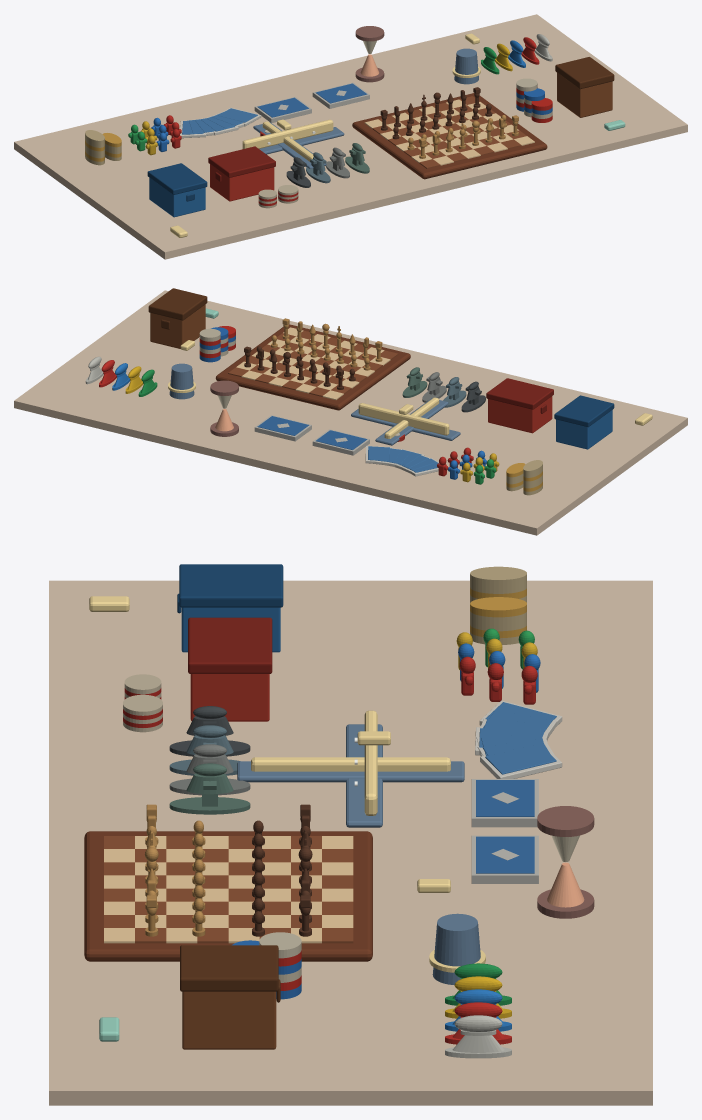
Rendered from gaming.glb.
3 renders of one model, top to bottom at view 1: azimuth 30°, elevation 25°; view 2: azimuth 150°, elevation 25°; view 3: azimuth 270°, elevation 25°, orthographic. The views are drawn at different scales.
Parts seen in each view (by area): view 1: part_0212, part_0135, part_0139, part_0116, part_0134, part_0140, part_0137, part_0133, part_0136, part_0144, part_0138, part_0117 (+6 smaller); view 2: part_0212, part_0139, part_0135, part_0116, part_0134, part_0140, part_0137, part_0133, part_0136, part_0144, part_0117, part_0138 (+7 smaller); view 3: part_0212, part_0135, part_0116, part_0139, part_0134, part_0140, part_0137, part_0133, part_0138, part_0131, part_0136, part_0132 (+10 smaller).
Part boxes in pixels (x1,y1,x2,y2): part_0212: (14, 14, 687, 259); part_0135: (555, 57, 614, 117); part_0139: (208, 146, 275, 201); part_0116: (352, 93, 547, 179); part_0134: (147, 163, 207, 217); part_0140: (286, 143, 369, 187); part_0137: (481, 34, 552, 74); part_0133: (180, 107, 261, 138); part_0136: (128, 115, 181, 155); part_0144: (516, 78, 552, 122); part_0138: (85, 130, 121, 165); part_0117: (242, 119, 333, 148); part_0212: (14, 290, 687, 535); part_0139: (486, 378, 553, 433); part_0135: (148, 288, 207, 348); part_0116: (215, 324, 410, 410); part_0134: (554, 395, 614, 449); part_0140: (402, 367, 485, 412); part_0137: (85, 356, 157, 396); part_0133: (365, 446, 438, 476); part_0136: (437, 447, 499, 484); part_0144: (199, 326, 235, 362); part_0117: (358, 403, 449, 435); part_0138: (506, 460, 542, 495); part_0212: (49, 580, 652, 1105); part_0135: (180, 945, 280, 1049); part_0116: (84, 831, 372, 961); part_0139: (188, 617, 272, 721); part_0134: (177, 564, 283, 652); part_0140: (169, 706, 250, 814); part_0137: (445, 963, 511, 1058); part_0133: (475, 700, 562, 778); part_0138: (470, 566, 526, 644); part_0131: (471, 835, 538, 883); part_0136: (456, 628, 540, 704); part_0132: (471, 779, 538, 827).
Size of the model in its own units: 1.8 by 0.1868 by 0.9.
